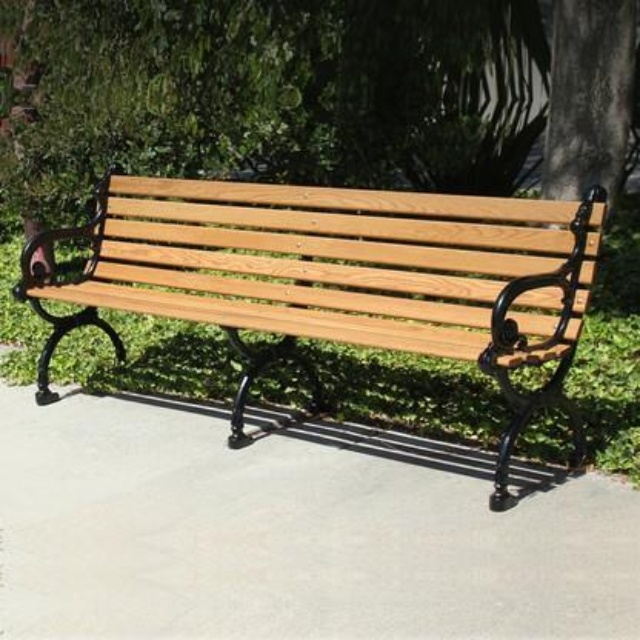obstacle: (22, 177, 615, 452)
